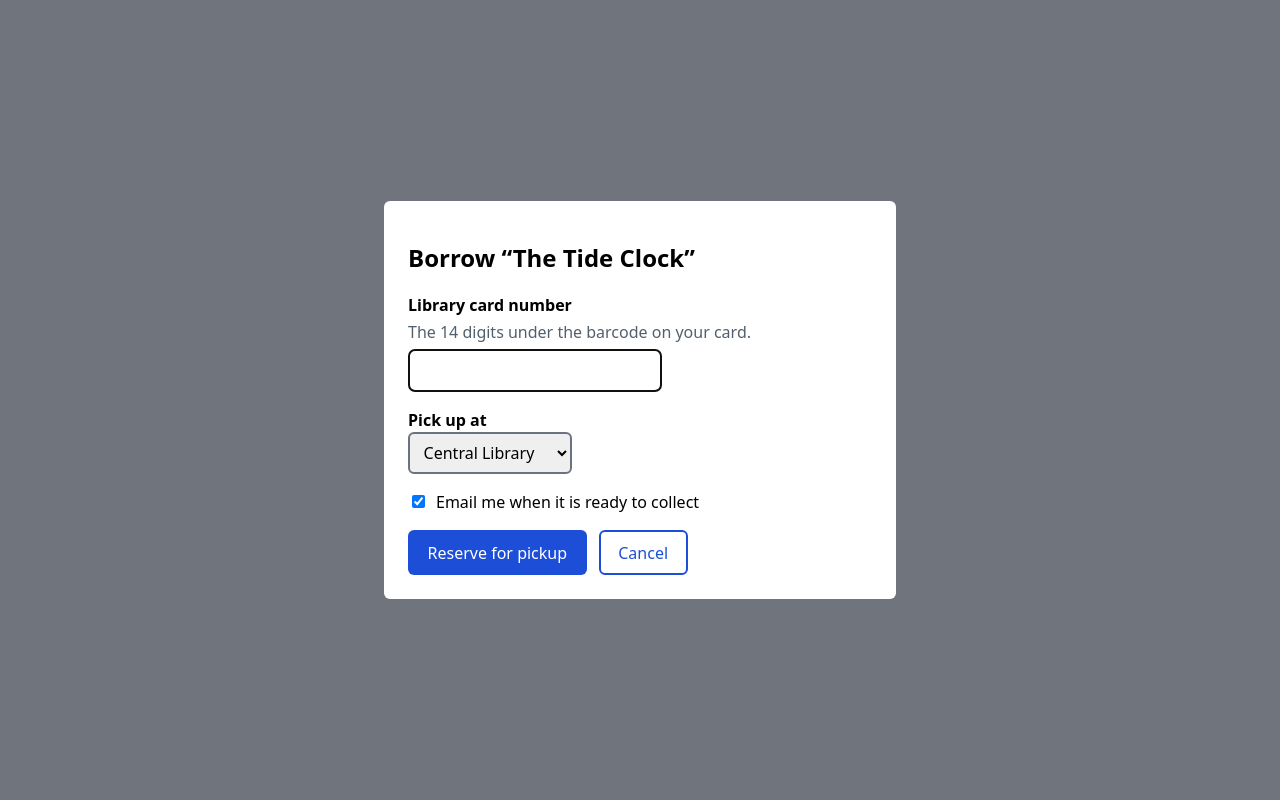
it: BorrowDialog › reports a reservation the library system refused
This screenshot has width=1280, height=800.
In the field labelled "Library card number": x=535, y=370 [408, 349, 662, 392], type "12345678901234"
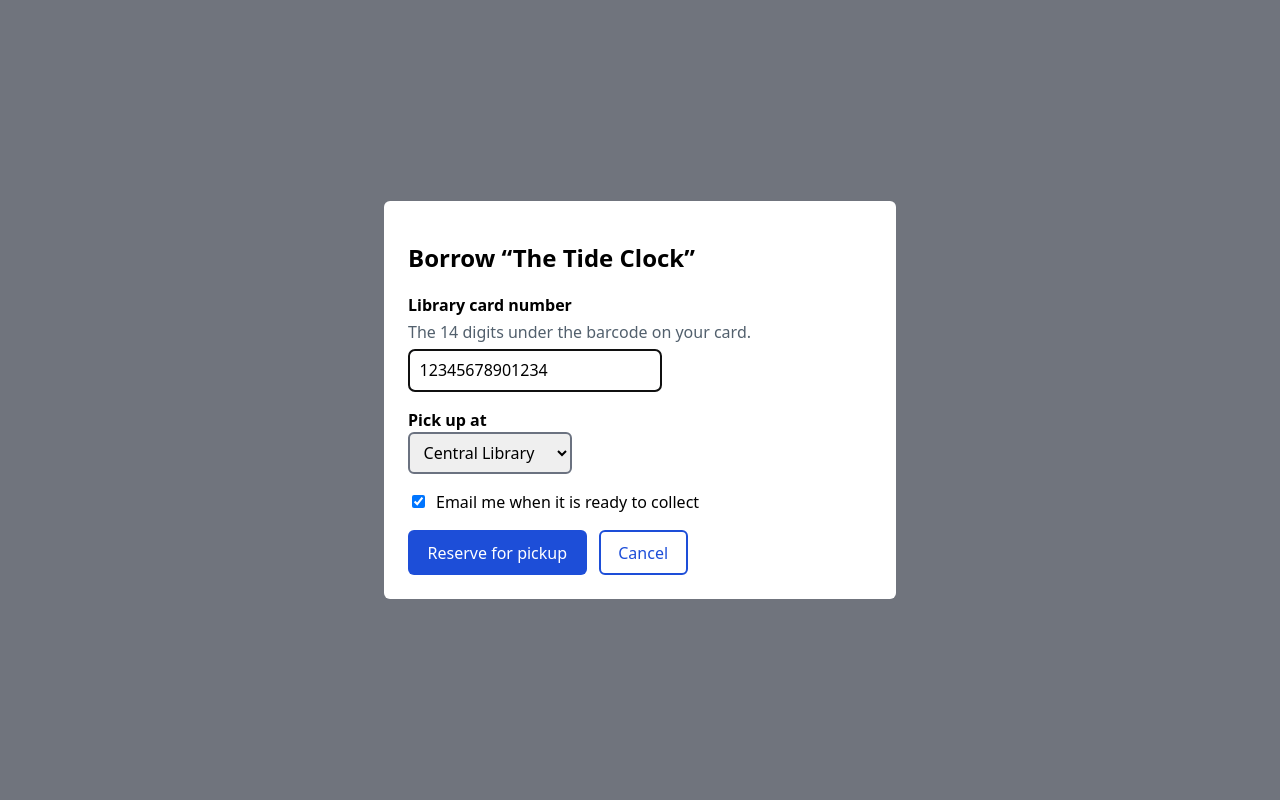
Click the button "Reserve for pickup": x=497, y=553 [408, 530, 587, 576]
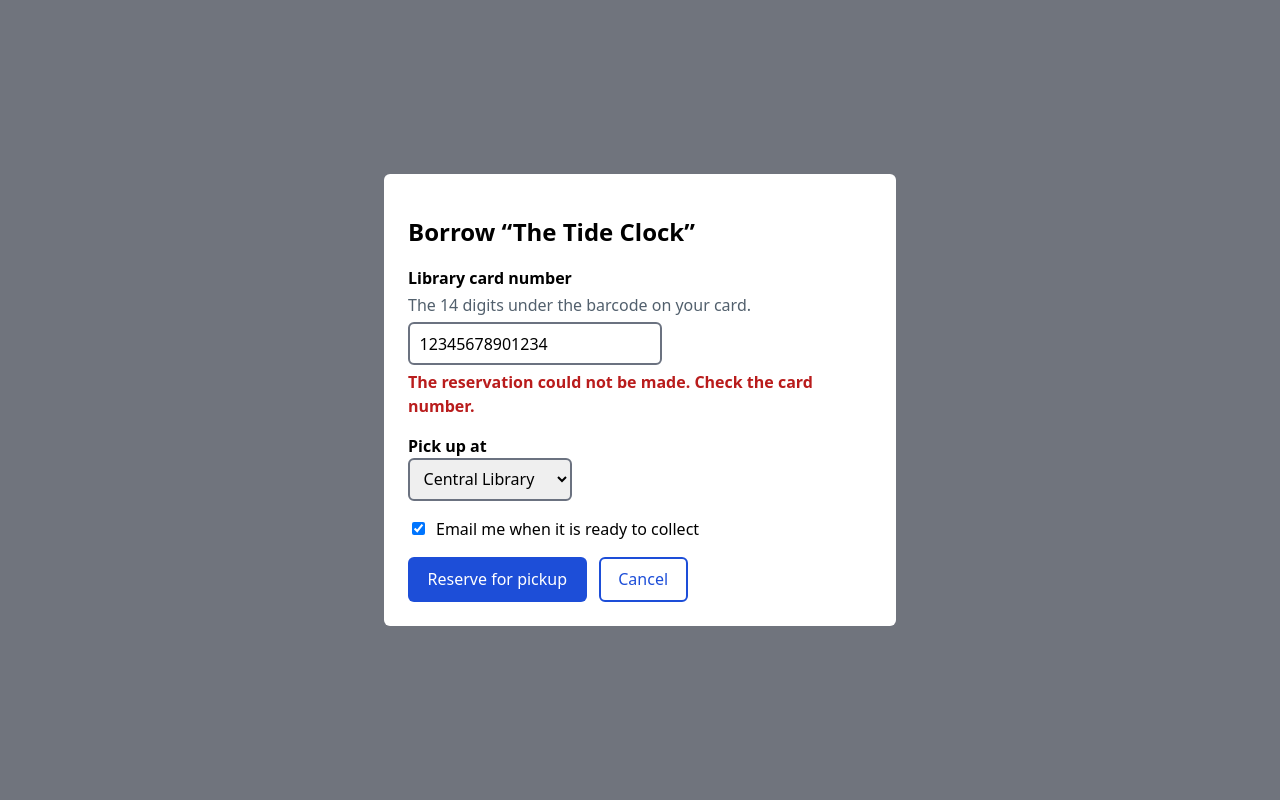
Result: the text "The reservation could not be made. Check the card number." is shown at [408, 370, 872, 418]
